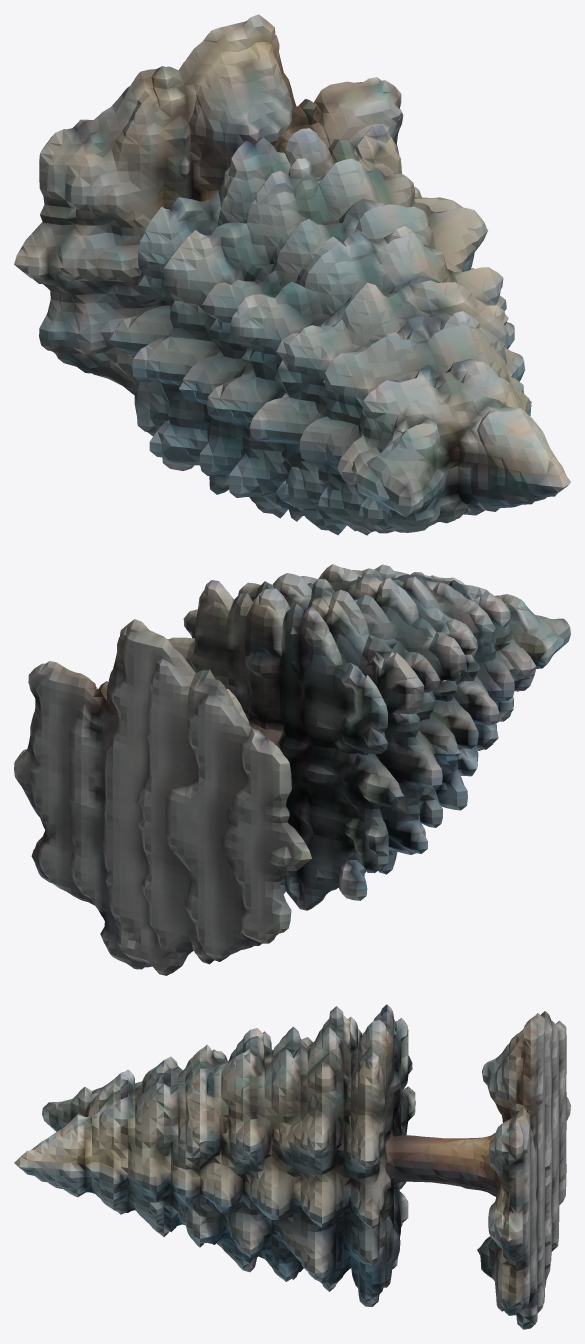
3 views of the same model, one above another, from view 1: azimuth 30°, elevation 25°; view 2: azimuth 150°, elevation 25°; view 3: azimuth 270°, elevation 25° (orthographic). The views are drawn at different scales.
Parts seen in each view (by area): view 1: world; view 2: world; view 3: world.
Part boxes in pixels (x1,y1,x2,y2): world: (14, 14, 570, 535); world: (14, 564, 570, 975); world: (14, 1004, 570, 1329).
Bounding box in the file's own units: 0.6503 × 0.6371 × 1.06.
